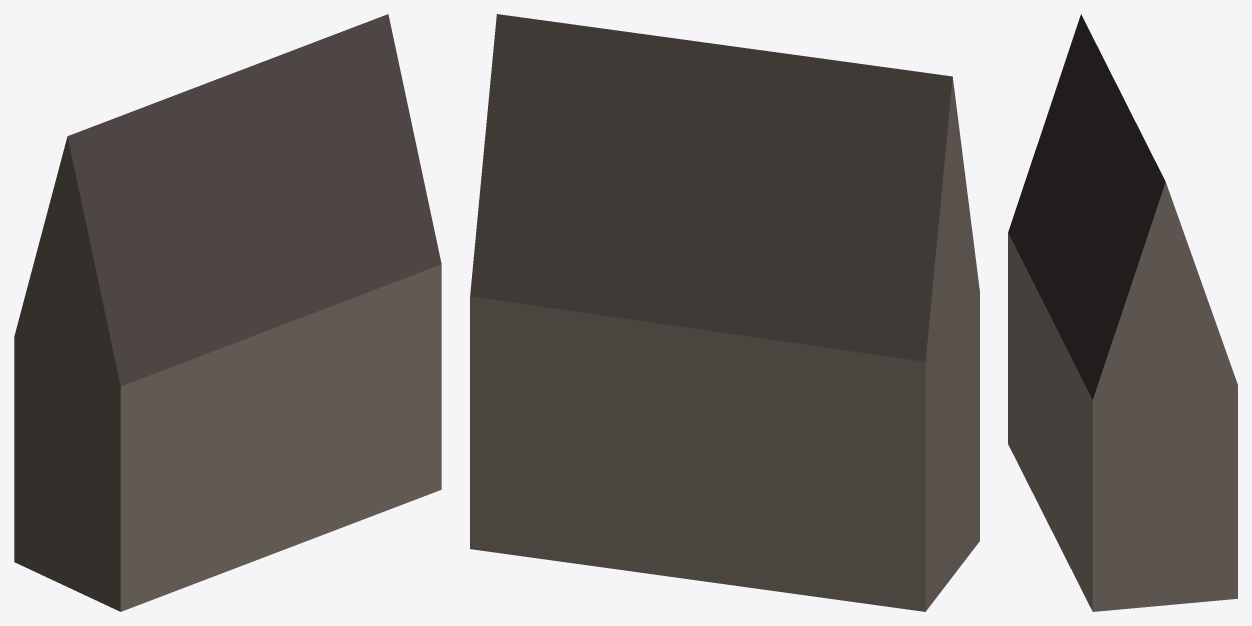
3 renders of one model, left to right at view 1: azimuth 30°, elevation 25°; view 2: azimuth 150°, elevation 25°; view 3: azimuth 270°, elevation 25°, orthographic. The views are drawn at different scales.
Parts seen in each view (by area): view 1: HP-w428179924; view 2: HP-w428179924; view 3: HP-w428179924.
Part boxes in pixels (left/top/right/bottom): HP-w428179924: left=14, top=14, right=441, bottom=611; HP-w428179924: left=470, top=14, right=979, bottom=611; HP-w428179924: left=1008, top=14, right=1237, bottom=611.
Size of the model in its own units: 5.5 by 6 by 2.95.
